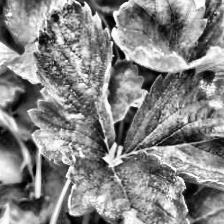Powdery Mildew Leaf: (25, 0, 116, 168), (118, 67, 224, 197), (62, 144, 194, 224), (110, 0, 208, 73), (163, 0, 224, 62), (189, 26, 224, 112)
